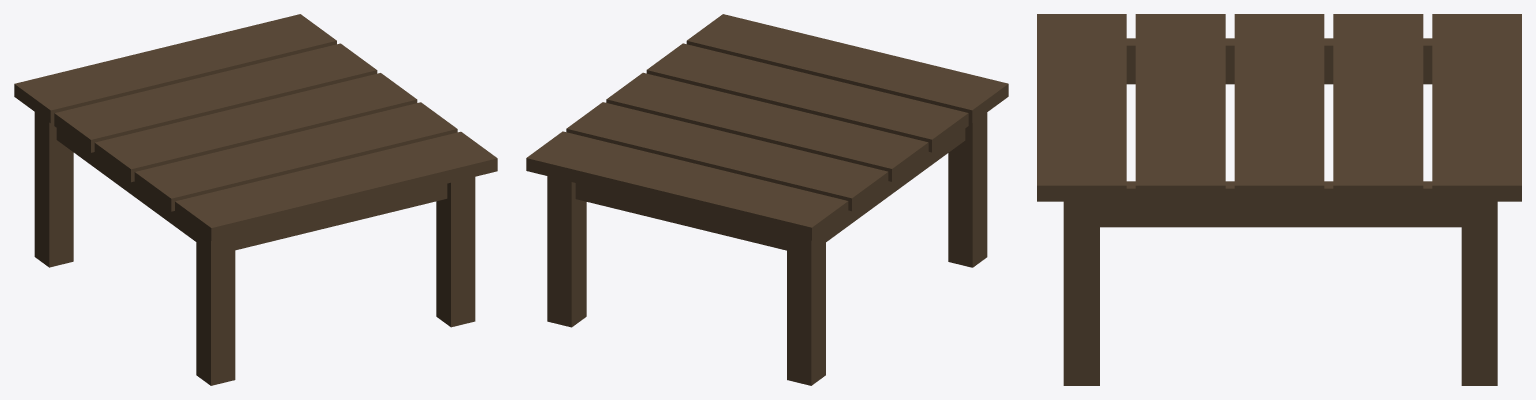
File: table.glb
3 renders of one model, left to right at view 1: azimuth 30°, elevation 25°; view 2: azimuth 150°, elevation 25°; view 3: azimuth 270°, elevation 25°, orthographic. The views are drawn at different scales.
Visible parts, largest first — view 1: Table; view 2: Table; view 3: Table.
Part boxes in pixels (x1=…): Table: x1=14, y1=14, x2=497, y2=385; Table: x1=526, y1=14, x2=1008, y2=385; Table: x1=1037, y1=14, x2=1521, y2=385.
Bounding box in the file's own units: 2.86 × 1.61 × 3.41.
Materials: 1 (1 with a texture image).
